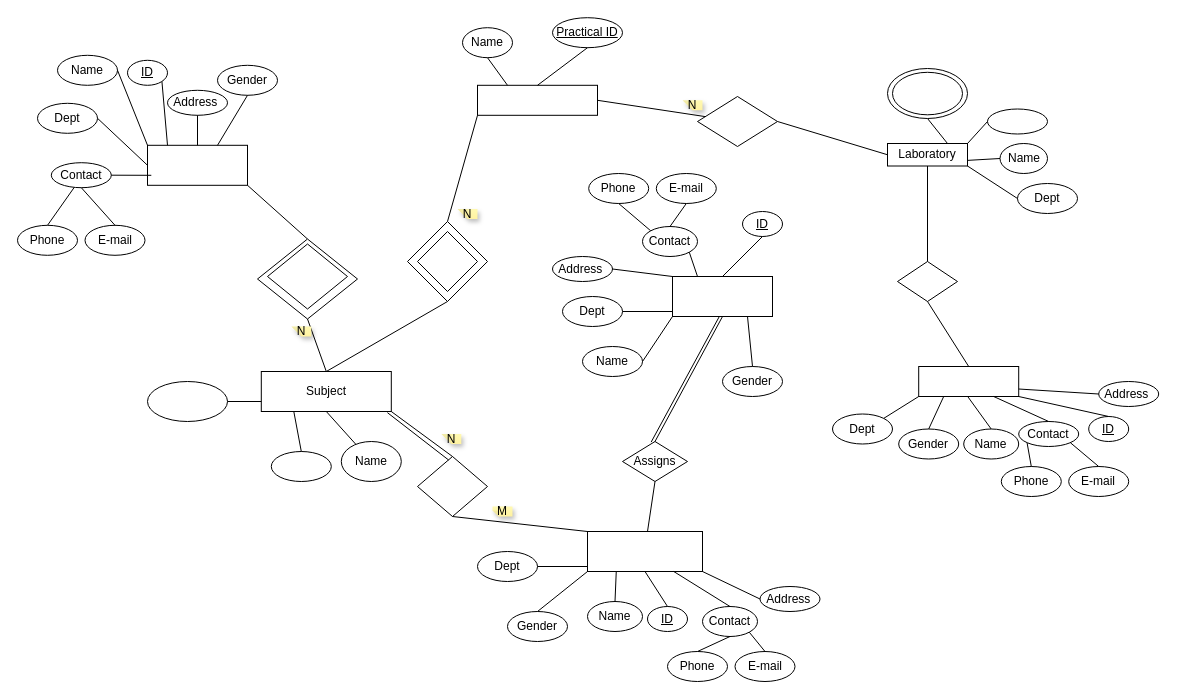
The diagram is 1177 pixels wide and 699 high, and some of its shapes have lost their labels. The centre of each missing label's shape, as x and y in pixels:
conducted By: the point at 452,486
Contains: the point at 447,261
Course code: the point at 187,401
Credit: the point at 300,466
Enroll: the point at 307,276
Held: the point at 737,121
Instructors: the point at 722,296
Instrument: the point at 927,93
Lab code: the point at 1017,121
Lecturer: the point at 644,551
Maintain: the point at 927,281
Practical: the point at 537,99
Student: the point at 197,164
TO: the point at 968,381
